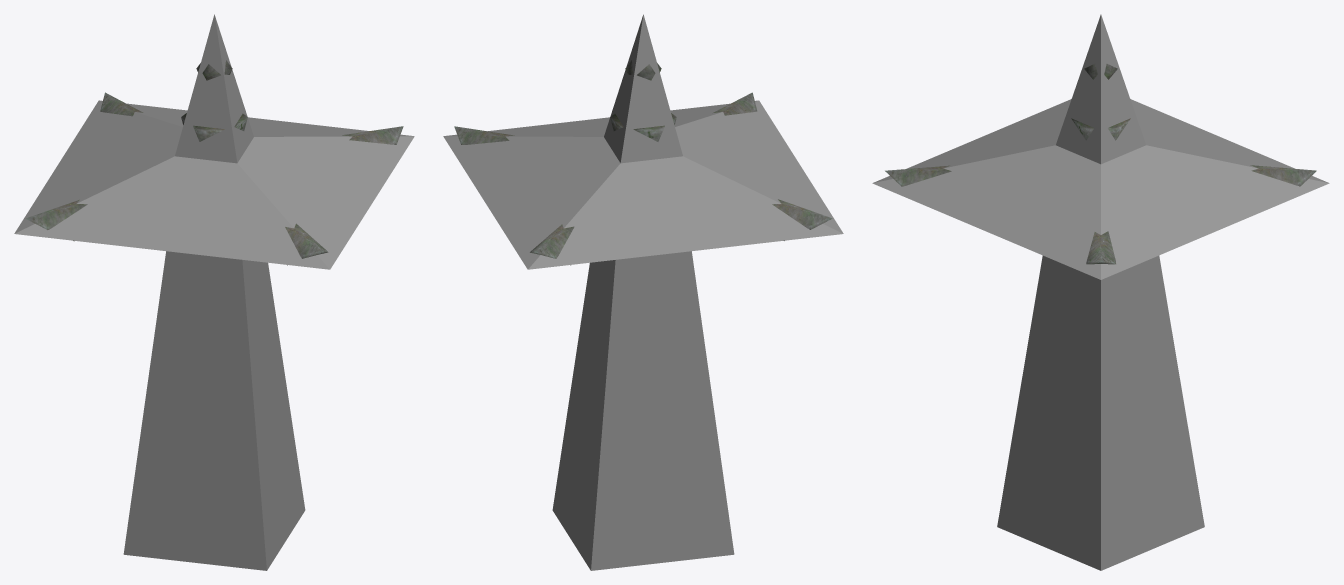
Rendered from Scene_Object_ShiDeng_1.FBX.
3 renders of one model, left to right at view 1: azimuth 30°, elevation 25°; view 2: azimuth 150°, elevation 25°; view 3: azimuth 270°, elevation 25°, orthographic.
Visible parts, largest first — view 1: Scene_Object_ShiDeng_1_Xzm, Scene_Object_ShiDeng_1; view 2: Scene_Object_ShiDeng_1_Xzm, Scene_Object_ShiDeng_1; view 3: Scene_Object_ShiDeng_1_Xzm, Scene_Object_ShiDeng_1.
Part boxes in pixels (x1,y1,x2,y2): Scene_Object_ShiDeng_1_Xzm: (14,14,414,570); Scene_Object_ShiDeng_1: (25,60,403,265); Scene_Object_ShiDeng_1_Xzm: (443,14,843,570); Scene_Object_ShiDeng_1: (454,60,832,265); Scene_Object_ShiDeng_1_Xzm: (872,14,1329,570); Scene_Object_ShiDeng_1: (885,64,1316,264).
Size of the model in its own units: 216 by 268 by 216.
